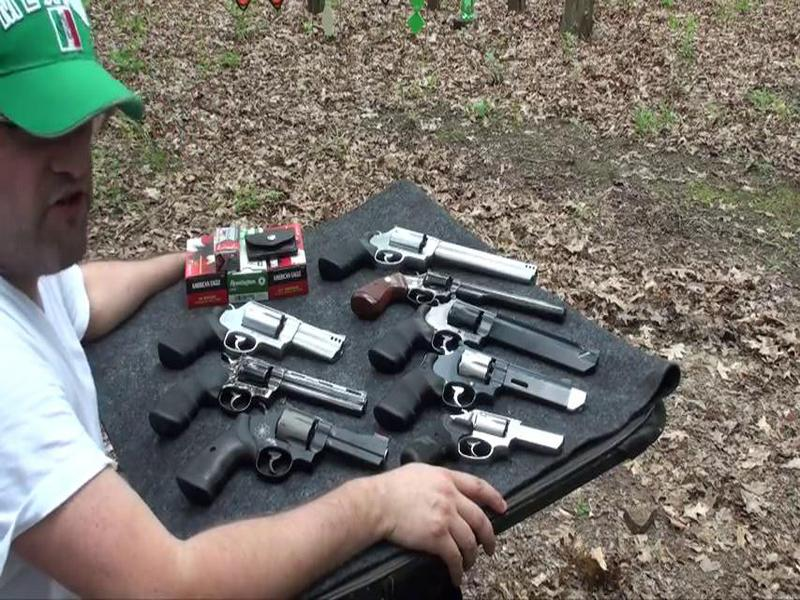Revolver: (177, 394, 389, 514)
